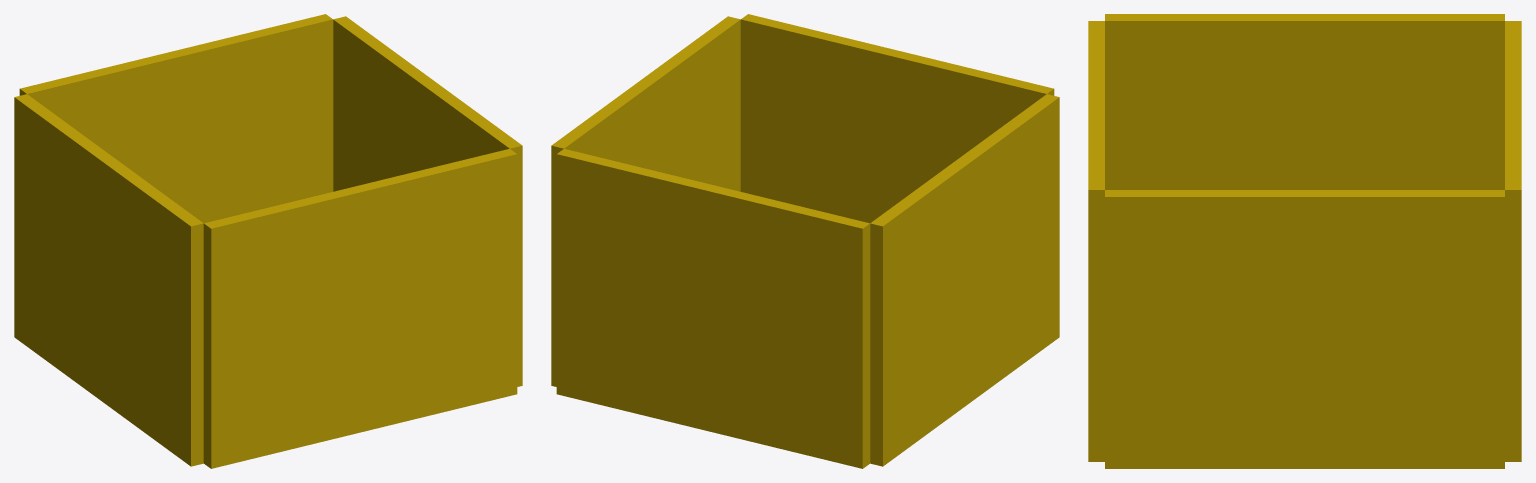
The model's file is 12 ft room.fbx.
The picture shows the model from 3 angles, left to right: view 1: azimuth 30°, elevation 25°; view 2: azimuth 150°, elevation 25°; view 3: azimuth 270°, elevation 25°; orthographic projection. The views are drawn at different scales.
Visible parts, largest first — view 1: pasted__wall_3, pasted__wall_4, pasted__wall_1, pasted__wall_2; view 2: pasted__wall_1, pasted__wall_4, pasted__wall_3, pasted__wall_2; view 3: pasted__wall_2, pasted__wall_4, pasted__wall_1, pasted__wall_3.
Boxes of the visible parts, left/top/right/bottom form: pasted__wall_3: left=203, top=148, right=517, bottom=468; pasted__wall_4: left=14, top=94, right=203, bottom=466; pasted__wall_1: left=19, top=14, right=333, bottom=223; pasted__wall_2: left=333, top=16, right=522, bottom=386; pasted__wall_1: left=556, top=148, right=870, bottom=468; pasted__wall_4: left=870, top=94, right=1059, bottom=466; pasted__wall_3: left=740, top=14, right=1054, bottom=223; pasted__wall_2: left=551, top=16, right=740, bottom=386; pasted__wall_2: left=1105, top=190, right=1504, bottom=468; pasted__wall_4: left=1105, top=14, right=1504, bottom=189; pasted__wall_1: left=1505, top=21, right=1521, bottom=461; pasted__wall_3: left=1088, top=21, right=1104, bottom=461.
Size of the model in its own units: 3.96 by 2.74 by 3.96.
